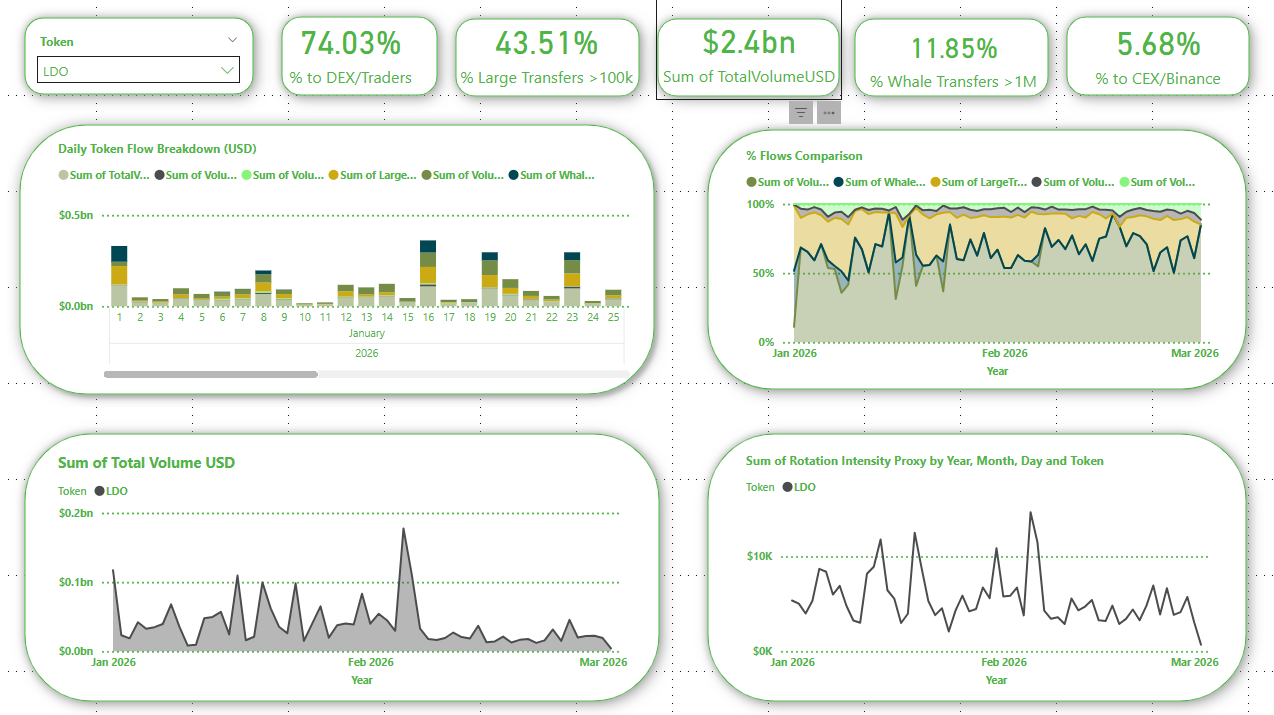

What the dashboard file says about the page in this screenshot:
{"tool":"powerbi","page":{"name":"Page 1","canvas":[1280,720],"ordinal":0},"visuals":[{"type":"shape","box":[7.1,1.4,264.3,111.4],"z":0,"group":"g1"},{"type":"group","id":"g1","title":"Group 1","box":[7.1,0,1259.8,719.6],"z":500},{"type":"columnChart","title":"Daily Token Flow Breakdown (USD)","fields":{"Y":["Sum(DeFiTokenFlows.TotalVolumeUSD)","Sum(DeFiTokenFlows.VolumeToCEX/BinanceUsersUSD)","Sum(DeFiTokenFlows.VolumeToUnlabeledUSD)","Sum(DeFiTokenFlows.LargeTransfers(>100k USD))","Sum(DeFiTokenFlows.VolumeToDEX/TradersUSD)","Sum(DeFiTokenFlows.WhaleTransfers(>1M USD))"],"Category":["DeFiTokenFlows.Date.Variation.Date Hierarchy.Year","DeFiTokenFlows.Date.Variation.Date Hierarchy.Month","DeFiTokenFlows.Date.Variation.Date Hierarchy.Day"]},"box":[52.5,141.2,582.5,242.5],"z":1000},{"type":"shape","box":[690,417.1,573.8,302.5],"z":1000,"group":"g1"},{"type":"slicer","fields":{"Values":["DeFiTokenFlows.Token"]},"box":[27.1,28.6,222.9,55.7],"z":1500},{"type":"shape","box":[7.5,417.1,670,302.5],"z":2000,"group":"g1"},{"type":"areaChart","title":"Sum of Total Volume USD","fields":{"Series":["DeFiTokenFlows.Token"],"Y":["Sum(DeFiTokenFlows.TotalVolumeUSD)"],"Category":["DeFiTokenFlows.Date.Variation.Date Hierarchy.Year","DeFiTokenFlows.Date.Variation.Date Hierarchy.Quarter","DeFiTokenFlows.Date.Variation.Date Hierarchy.Month","DeFiTokenFlows.Date.Variation.Date Hierarchy.Day"]},"box":[52.5,452.5,587.5,240],"z":2000},{"type":"shape","box":[438.4,1.5,218.5,113.8],"z":3000,"group":"g1"},{"type":"hundredPercentStackedAreaChart","title":"% Flows Comparison","fields":{"Y":["Sum(DeFiTokenFlows.VolumeToDEX/TradersUSD)","Sum(DeFiTokenFlows.WhaleTransfers(>1M USD))","Sum(DeFiTokenFlows.LargeTransfers(>100k USD))","Sum(DeFiTokenFlows.VolumeToCEX/BinanceUsersUSD)","Sum(DeFiTokenFlows.VolumeToUnlabeledUSD)"],"Category":["DeFiTokenFlows.Date.Variation.Date Hierarchy.Year","DeFiTokenFlows.Date.Variation.Date Hierarchy.Quarter","DeFiTokenFlows.Date.Variation.Date Hierarchy.Month","DeFiTokenFlows.Date.Variation.Date Hierarchy.Day"]},"box":[740.9,148.2,489.1,235.5],"z":3000},{"type":"shape","box":[690,113.4,573.8,295],"z":4000,"group":"g1"},{"type":"lineChart","fields":{"Y":["Sum(DeFiTokenFlows.Rotation Intensity Proxy)"],"Series":["DeFiTokenFlows.Token"],"Category":["DeFiTokenFlows.Date.Variation.Date Hierarchy.Year","DeFiTokenFlows.Date.Variation.Date Hierarchy.Month","DeFiTokenFlows.Date.Variation.Date Hierarchy.Day"]},"box":[741.2,452.5,488.8,240],"z":4000},{"type":"card","title":"tt","fields":{"Values":["Sum(DeFiTokenFlows.TotalVolumeUSD)"]},"box":[656.4,0,185.5,100.9],"z":5000},{"type":"shape","box":[7.5,113.4,660,295],"z":5000,"group":"g1"},{"type":"card","fields":{"Values":["DeFiTokenFlows.% Large Transfers >100k"]},"box":[446.4,0,200.9,101.8],"z":6000},{"type":"shape","box":[836.9,1.5,229.2,113.8],"z":6000,"group":"g1"},{"type":"shape","box":[263.8,0,191.5,113.8],"z":7000,"group":"g1"},{"type":"card","fields":{"Values":["DeFiTokenFlows.% to CEX/Binance"]},"box":[1060.9,0,193.6,103.6],"z":7000},{"type":"card","fields":{"Values":["DeFiTokenFlows.% to DEX/Traders"]},"box":[254.5,0,191.8,102.7],"z":8000},{"type":"shape","box":[640,1.5,216.9,113.8],"z":8000,"group":"g1"},{"type":"shape","box":[1049.2,0,217.7,113.8],"z":9000,"group":"g1"},{"type":"card","fields":{"Values":["DeFiTokenFlows.% Whale Transfers >1M"]},"box":[858.2,20.9,190.9,73.6],"z":9000}]}

Visuals, with their boxes in screenshot pixels (x1, y1, x2, y2), scaled from the page's 1280x720 canvas onto the 1274x715 screenshot:
shape: locate(7, 1, 270, 112)
"Group 1" group: locate(7, 0, 1261, 714)
"Daily Token Flow Breakdown (USD)" columnChart: locate(52, 140, 632, 381)
shape: locate(687, 414, 1258, 714)
slicer - DeFiTokenFlows.Token: locate(27, 28, 249, 84)
shape: locate(7, 414, 674, 714)
"Sum of Total Volume USD" areaChart: locate(52, 449, 637, 688)
shape: locate(436, 1, 654, 114)
"% Flows Comparison" hundredPercentStackedAreaChart: locate(737, 147, 1224, 381)
shape: locate(687, 113, 1258, 406)
lineChart - Sum(DeFiTokenFlows.Rotation Intensity Proxy) x DeFiTokenFlows.Token: locate(738, 449, 1224, 688)
"tt" card: locate(653, 0, 838, 100)
shape: locate(7, 113, 664, 406)
card - DeFiTokenFlows.% Large Transfers >100k: locate(444, 0, 644, 101)
shape: locate(833, 1, 1061, 114)
shape: locate(263, 0, 453, 113)
card - DeFiTokenFlows.% to CEX/Binance: locate(1056, 0, 1249, 103)
card - DeFiTokenFlows.% to DEX/Traders: locate(253, 0, 444, 102)
shape: locate(637, 1, 853, 114)
shape: locate(1044, 0, 1261, 113)
card - DeFiTokenFlows.% Whale Transfers >1M: locate(854, 21, 1044, 94)
